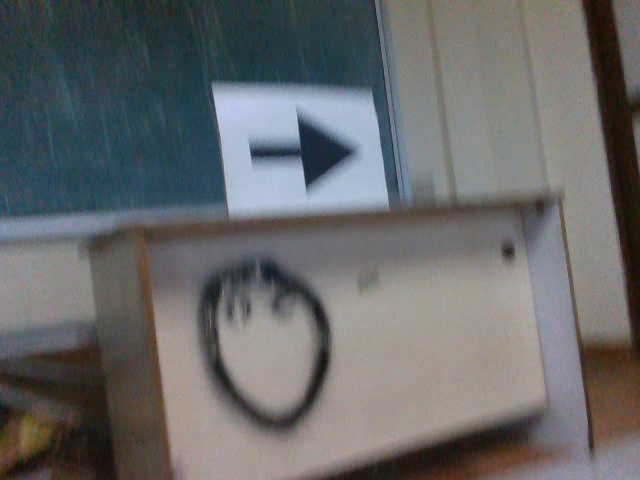Right: (243, 97, 364, 197)
